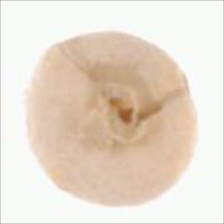L3: (82, 69, 164, 138)
L4: (28, 32, 199, 207)
